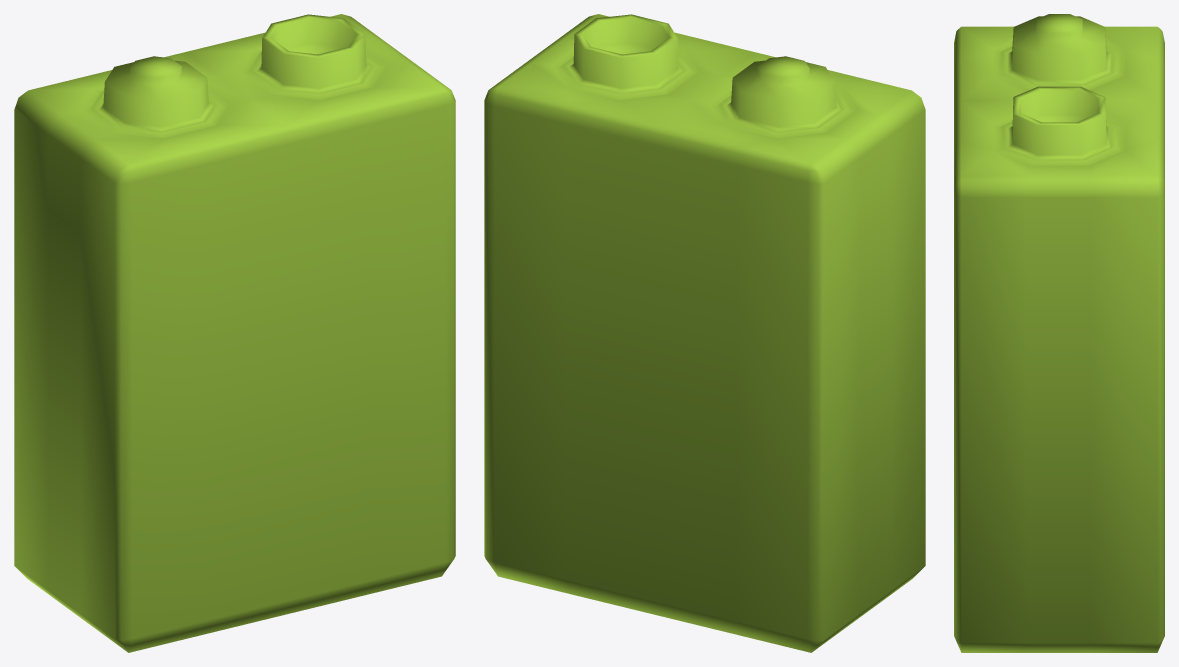
Rendered from Battery_Model_6.fbx.
The picture shows the model from 3 angles, left to right: view 1: azimuth 30°, elevation 25°; view 2: azimuth 150°, elevation 25°; view 3: azimuth 270°, elevation 25°; orthographic projection. The views are drawn at different scales.
Parts seen in each view (by area): view 1: Bat6; view 2: Bat6; view 3: Bat6.
Part boxes in pixels (x1,y1,x2,y2): Bat6: (14, 14, 455, 652); Bat6: (484, 14, 925, 652); Bat6: (954, 14, 1164, 652).
Bounding box in the file's own units: 116 × 173 × 63.7.
